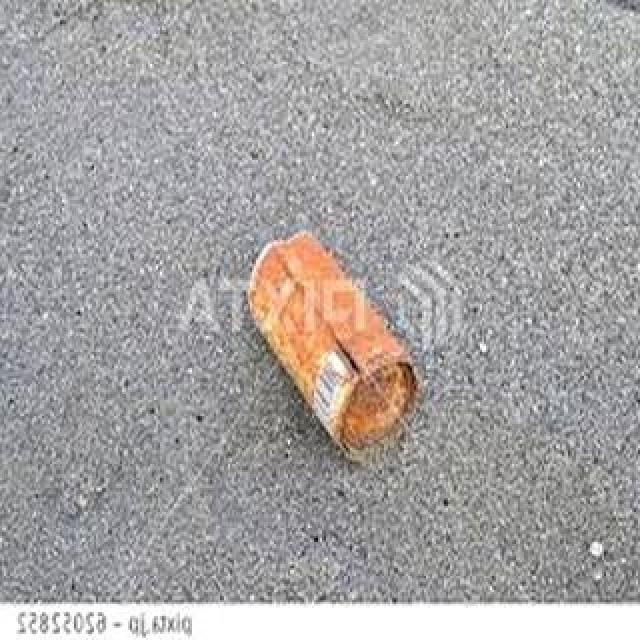Can: (227, 231, 429, 463)
